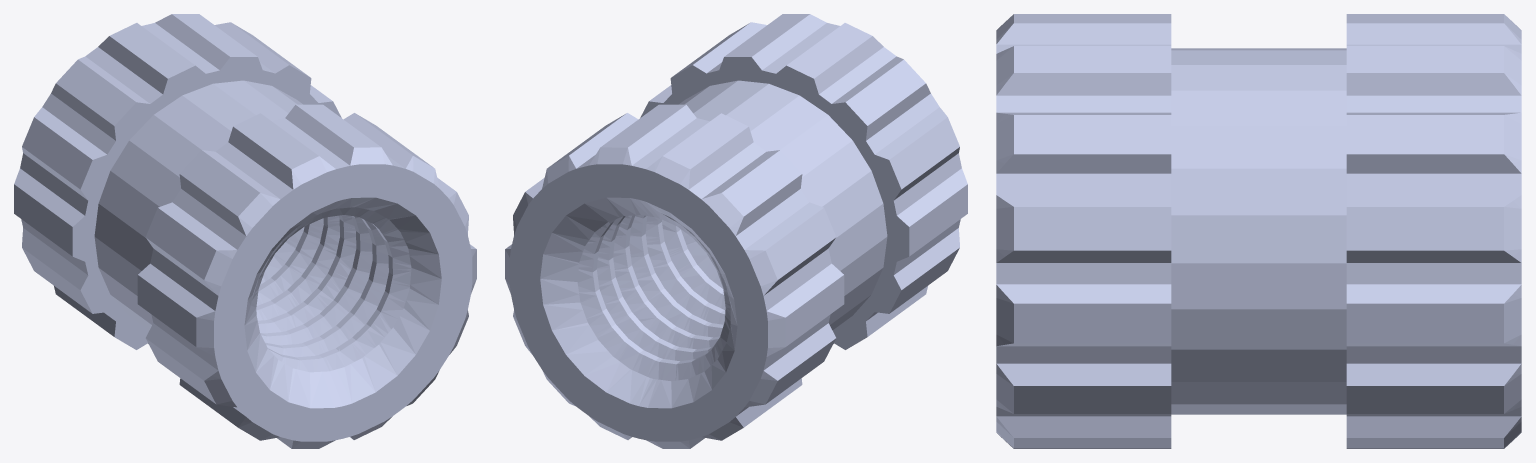
The model's file is T200_07_T200STEP_T200STEPSTEP_T200_NOZZLESTEPSTEP_T200STEP1_05_T200STEP1.obj.
3 views of the same model, side by side, from view 1: azimuth 30°, elevation 25°; view 2: azimuth 150°, elevation 25°; view 3: azimuth 270°, elevation 25° (orthographic). The views are drawn at different scales.
Bounding box in the file's own units: 0.00497 × 0.00496 × 0.006.
